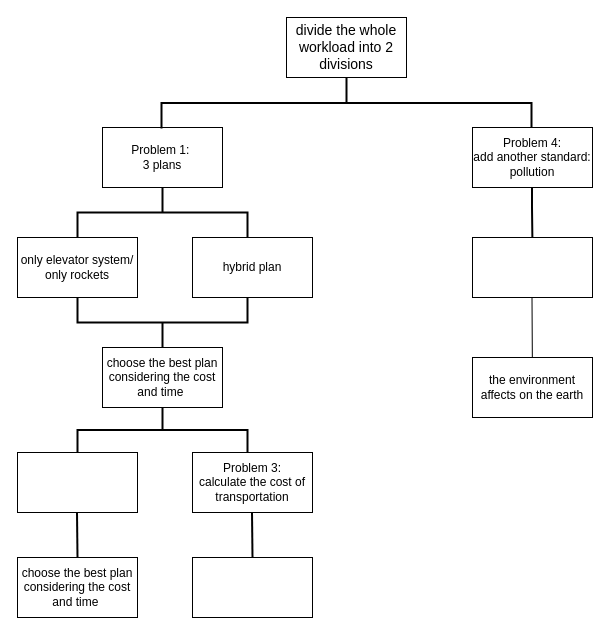
This 610x635 diagram has some shape labels left out. Each missing label, with the centre of its shape:
"A better solution: generating water and other resources on the moon" goes at [252,587].
"change the parameter of time, cost, pollution" goes at [532,267].
"Problem 2: adjust the weights of 2 standards" goes at [77,482].
